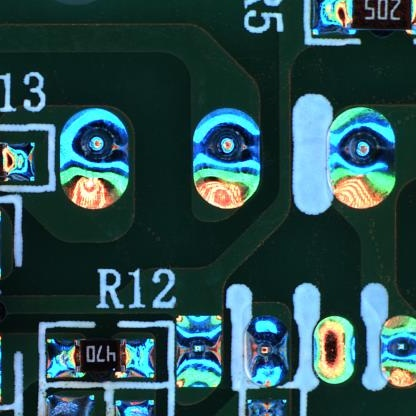spot: (57, 106, 131, 210), (191, 106, 261, 210), (327, 106, 397, 210), (243, 314, 291, 386), (176, 315, 222, 389), (311, 315, 357, 386), (380, 315, 416, 390)
